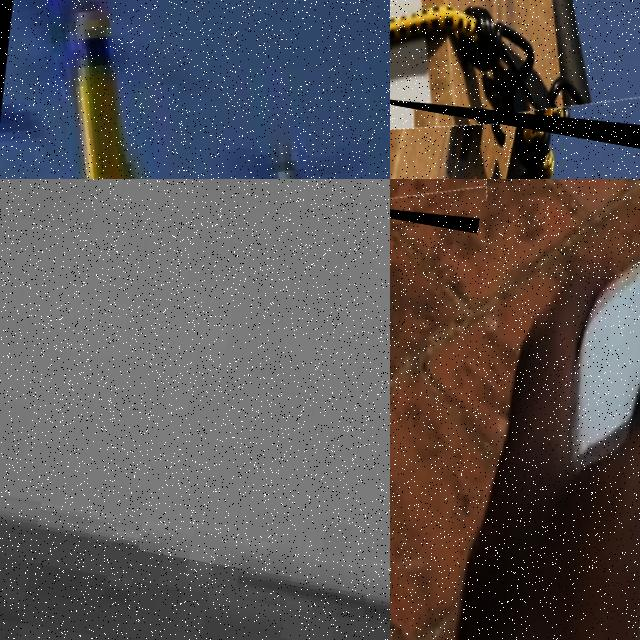drone: (0, 0, 390, 179), (390, 0, 640, 179), (390, 179, 493, 233)
